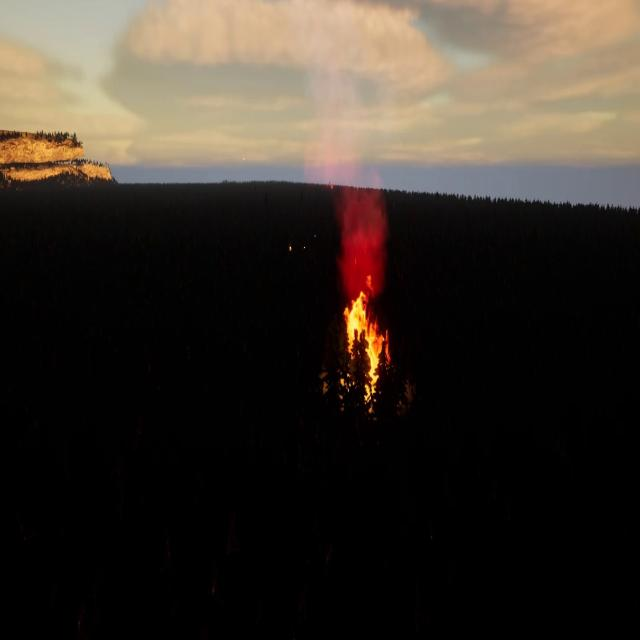fire: (344, 294, 391, 397)
smoke: (306, 85, 391, 286)
